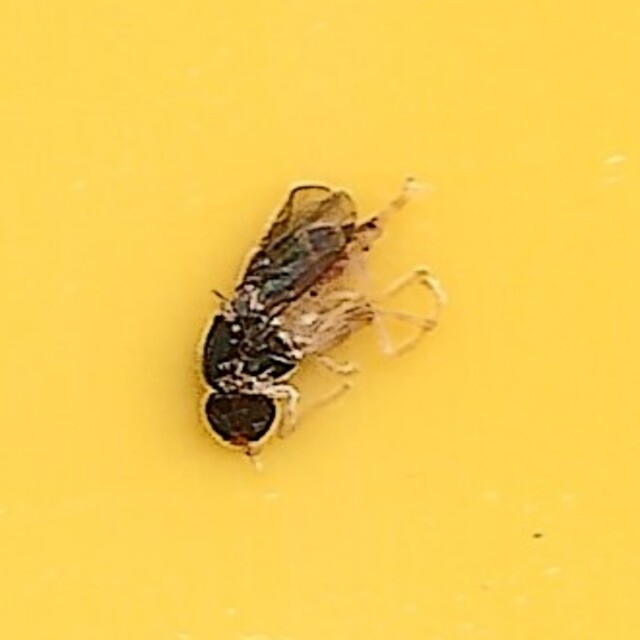Brachycera: (194, 179, 446, 461)
